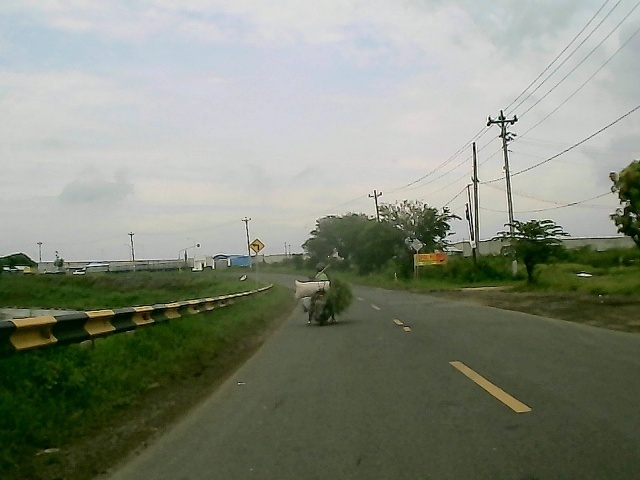Tikungan tajam ke kiri: (248, 236, 265, 256)
